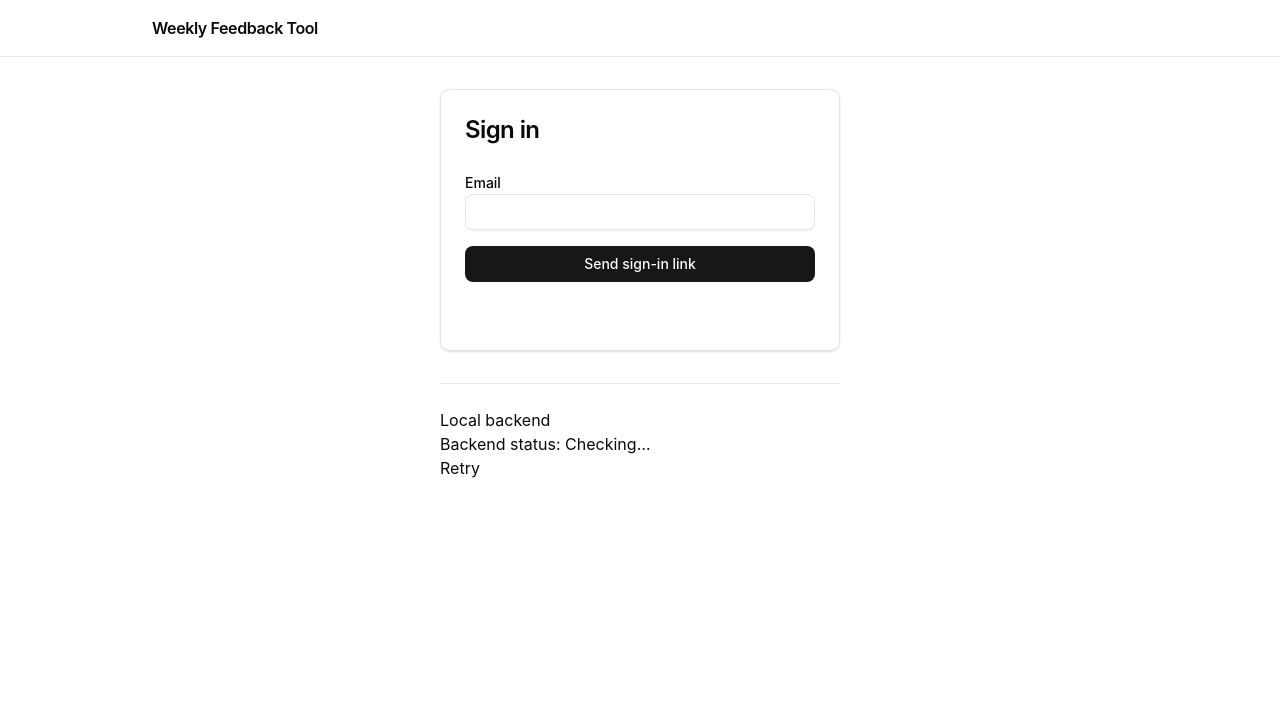
it: LoginPage › shows an inline error and sends nothing for not-an-email
The width and height of the screenshot is (1280, 720).
Step 1. Type "not-an-email" into the field labelled "Email" → [640, 212], box [465, 194, 815, 230]
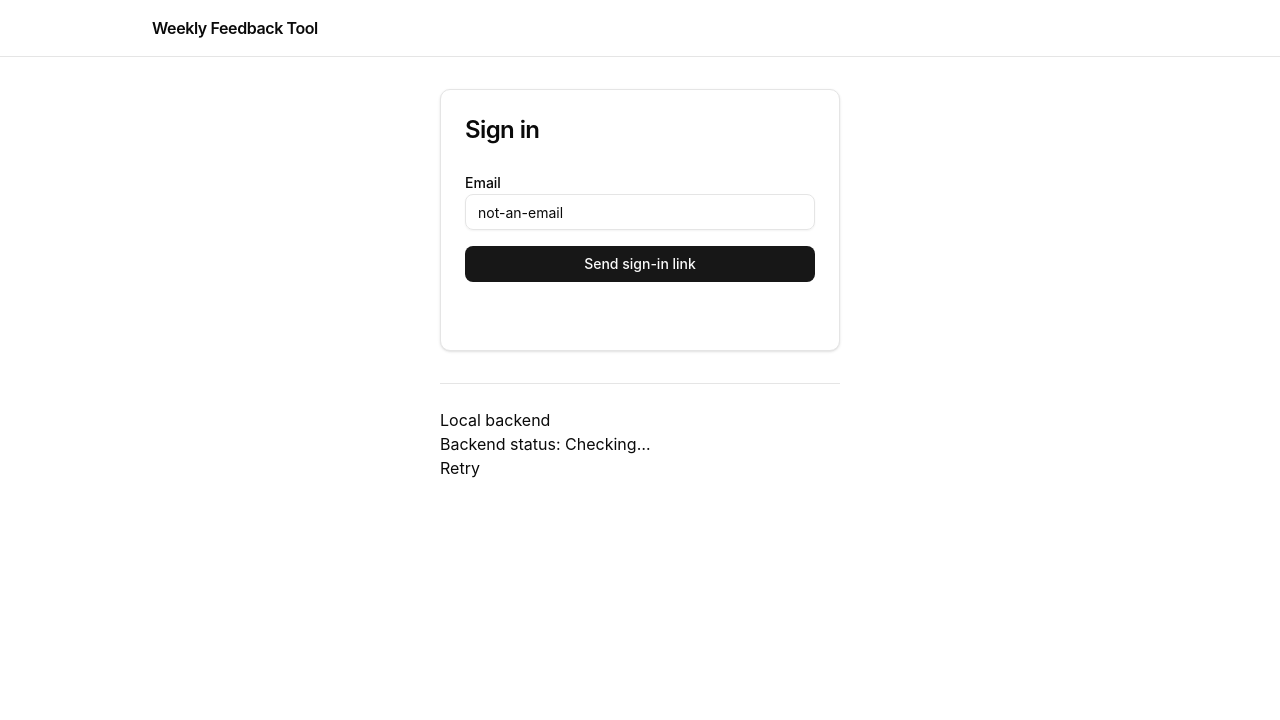
Step 2. Click the button "Send sign-in link" → [640, 264], box [465, 246, 815, 282]
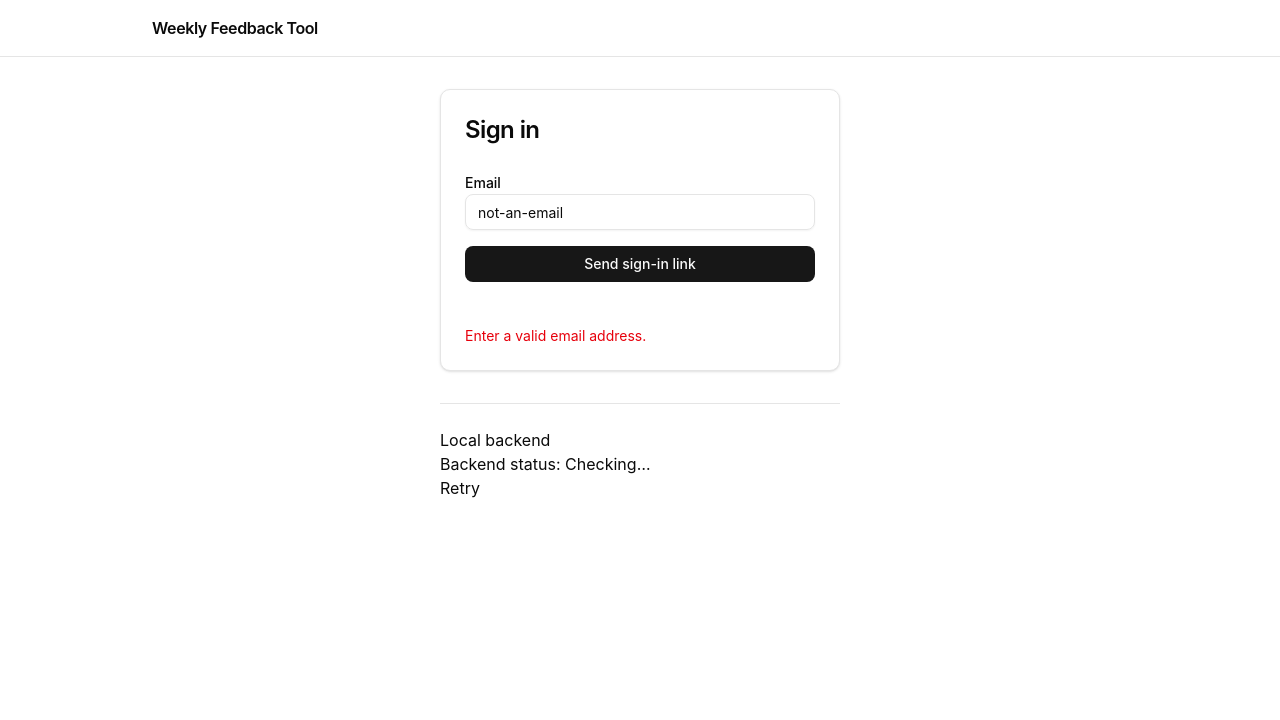
Result: the message with id "login-error" reads "Enter a valid email address." at [465, 327, 646, 344]
